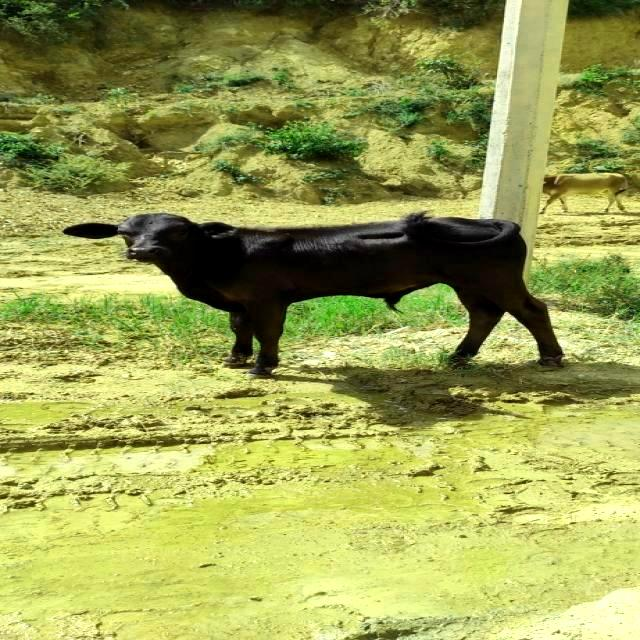COW: (64, 212, 564, 376)
